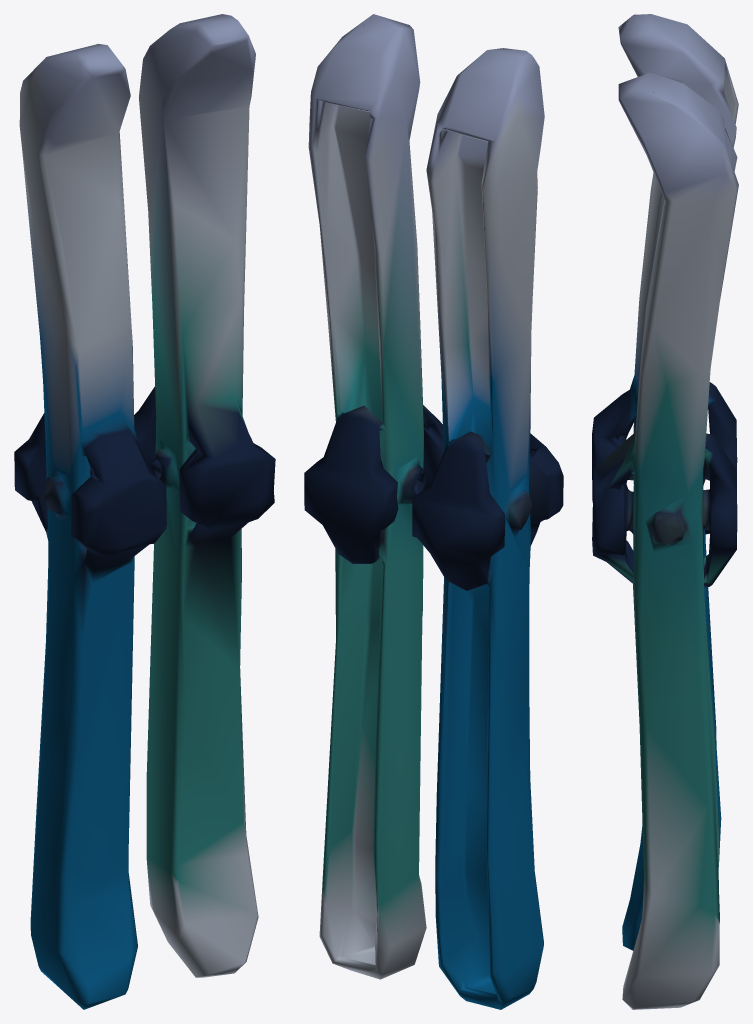
File: gen3d-ski-lod1.glb
3 renders of one model, left to right at view 1: azimuth 30°, elevation 25°; view 2: azimuth 150°, elevation 25°; view 3: azimuth 270°, elevation 25°, orthographic. The views are drawn at different scales.
Parts seen in each view (by area): view 1: part_0; view 2: part_0; view 3: part_0.
Part boxes in pixels (bbox=[...]): part_0: bbox=[14, 14, 275, 1009]; part_0: bbox=[304, 14, 563, 1009]; part_0: bbox=[592, 14, 738, 1009].
Bounding box in the file's own units: 0.2333 × 0.9996 × 0.1438.
